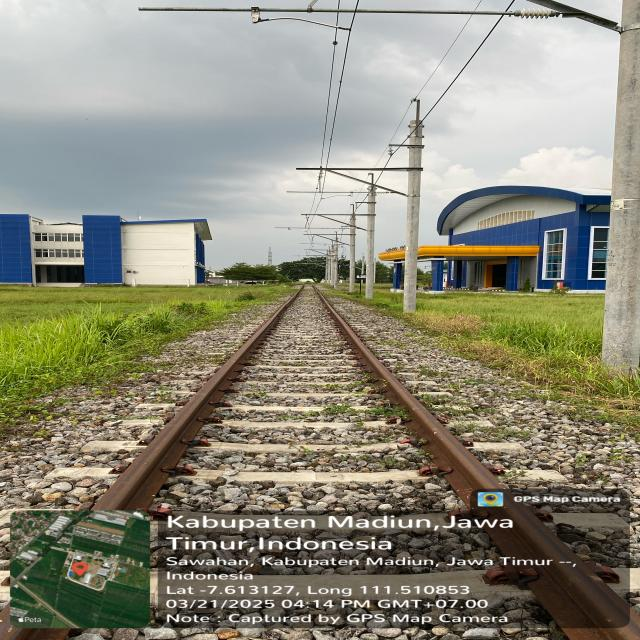rail-detection: (319, 294, 640, 640), (93, 296, 295, 510)
